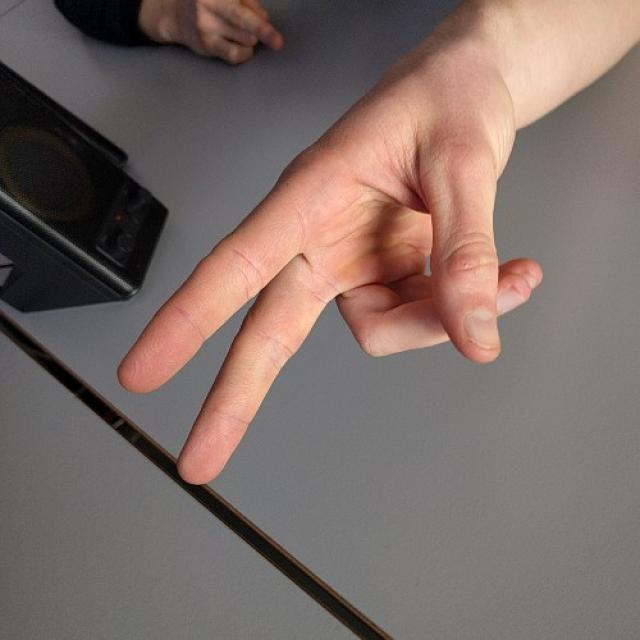scissors: (113, 52, 546, 490)
